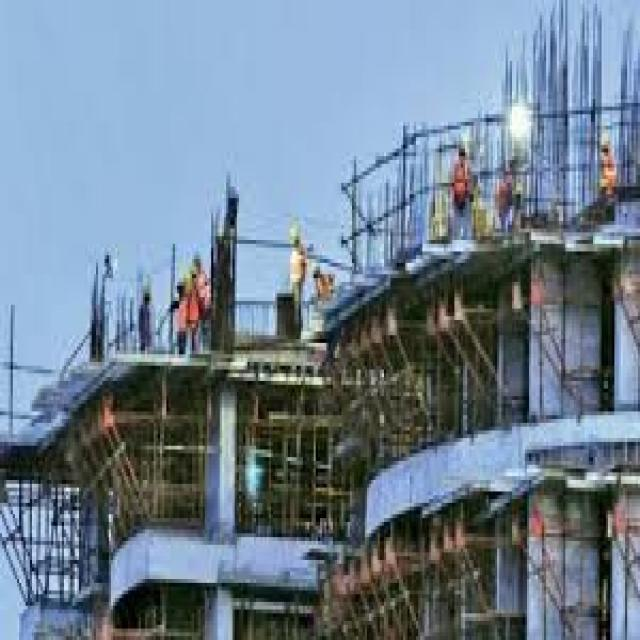Reflective-Jacket: (283, 247, 311, 294), (598, 151, 620, 198)
Safety-Helmet: (598, 126, 614, 156), (290, 218, 302, 248)
